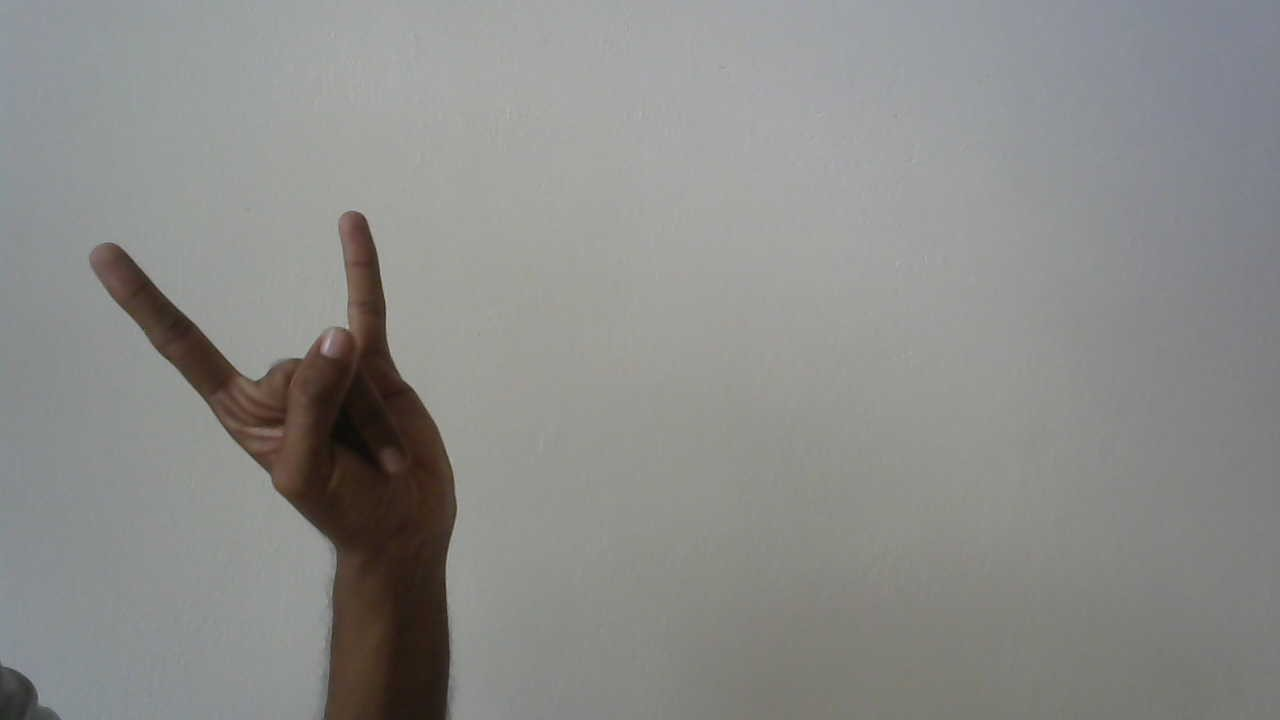iloveyou: (70, 206, 465, 543)
